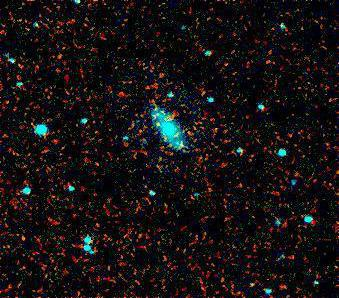star: (146, 106, 176, 136)
